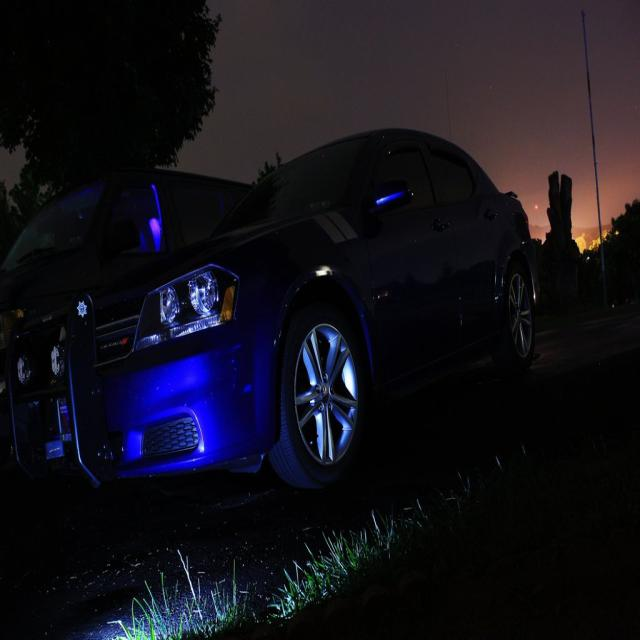Car: (18, 125, 535, 493)
